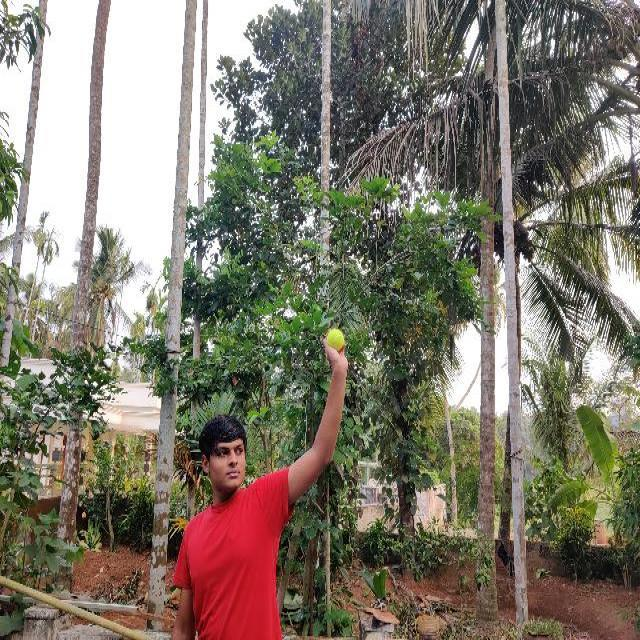tennis-ball: (326, 327, 344, 350)
